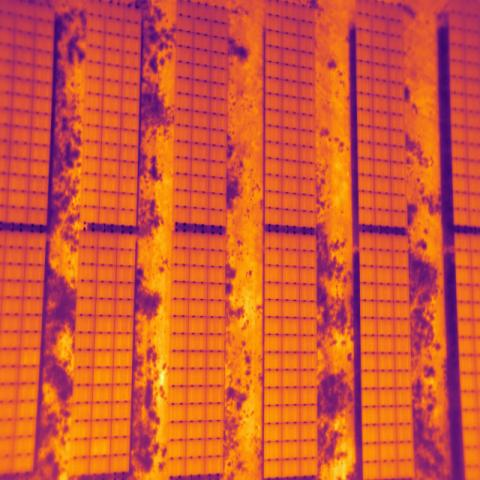fault: (90, 437, 110, 455)
